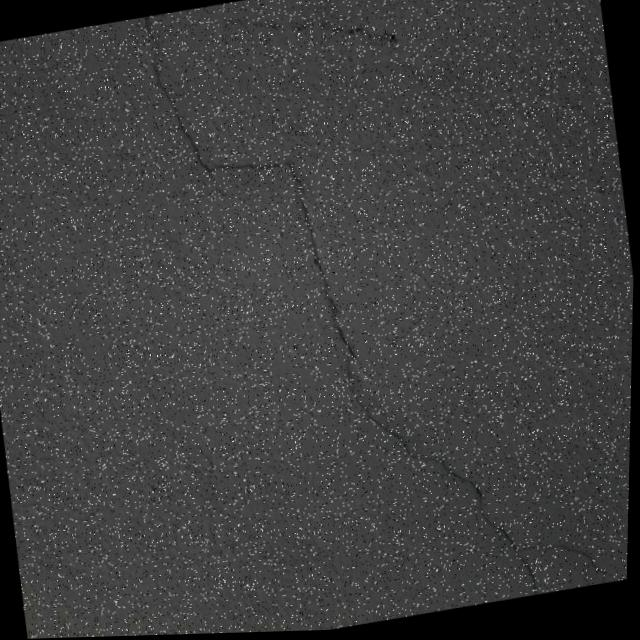Crack: (131, 0, 625, 637)
